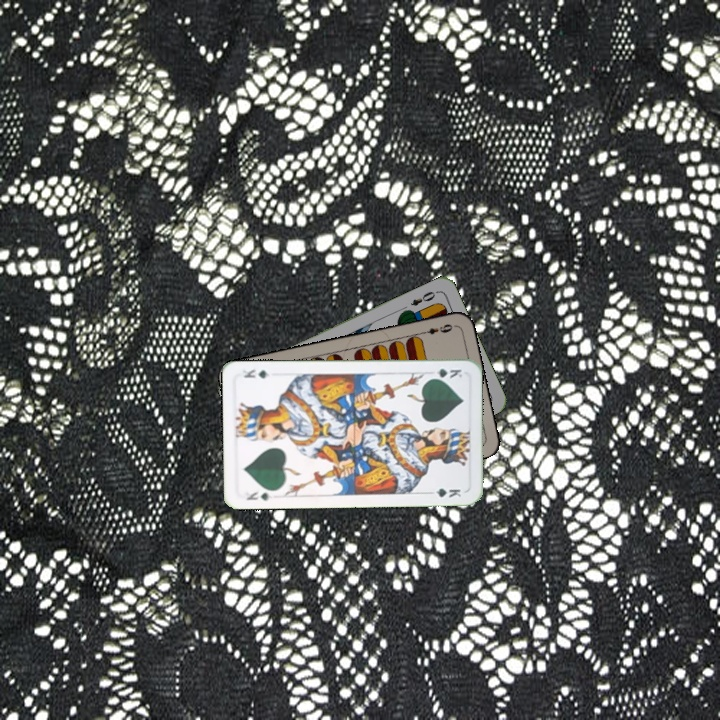E9: (417, 320, 457, 337)
EO: (407, 287, 441, 309)
GK: (425, 364, 465, 381), (243, 486, 274, 503)
